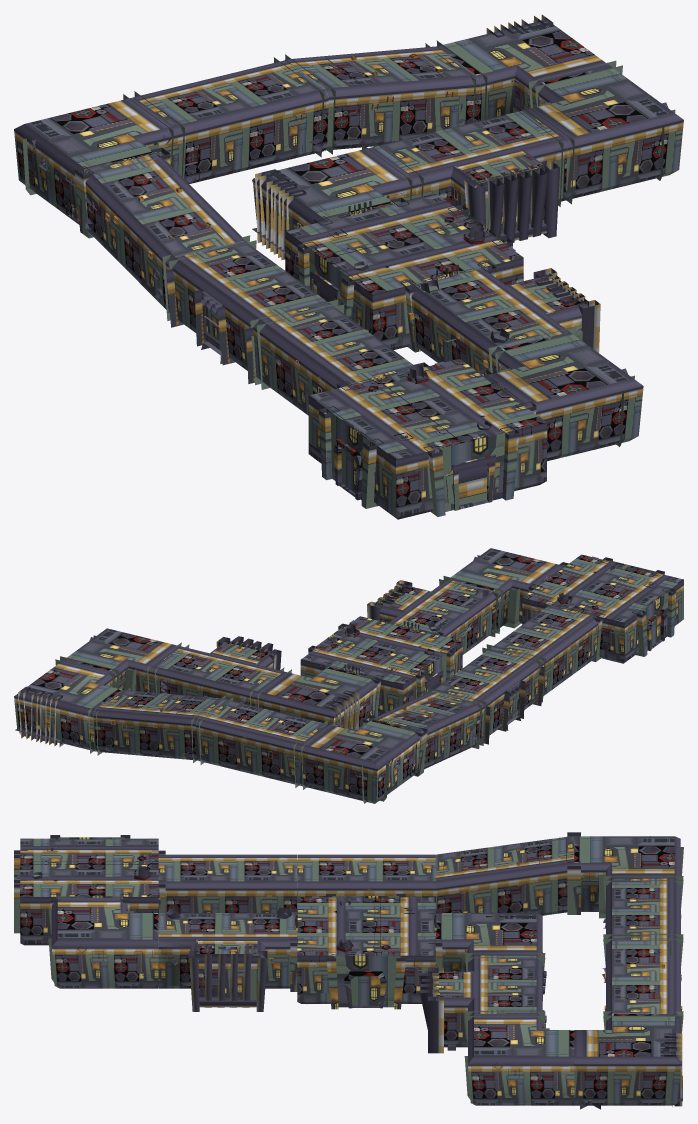
Rendered from Combined_Mesh_root_scene_b20ae4d5__zombies2_diffuse_07_65562b6b_c1f257.obj.
3 renders of one model, top to bottom at view 1: azimuth 30°, elevation 25°; view 2: azimuth 150°, elevation 25°; view 3: azimuth 270°, elevation 25°, orthographic. The views are drawn at different scales.
Size of the model in its own units: 77.06 by 11.5 by 96.9.
Materials: 233 (233 with a texture image).
